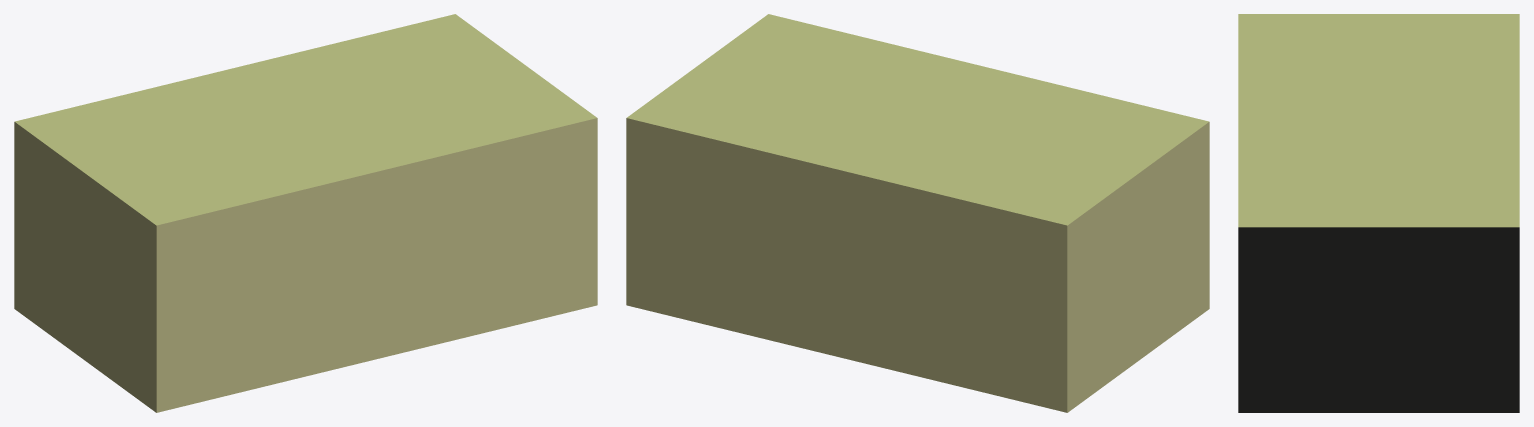
Rendered from MainMenu Room.fbx.
3 renders of one model, left to right at view 1: azimuth 30°, elevation 25°; view 2: azimuth 150°, elevation 25°; view 3: azimuth 270°, elevation 25°, orthographic.
Visible parts, largest first — view 1: Plane; view 2: Plane; view 3: Plane.
Part boxes in pixels (x1=…): Plane: x1=14, y1=14, x2=597, y2=412; Plane: x1=626, y1=14, x2=1209, y2=412; Plane: x1=1238, y1=14, x2=1519, y2=412.
Bounding box in the file's own units: 7.09 × 2.88 × 3.95.
